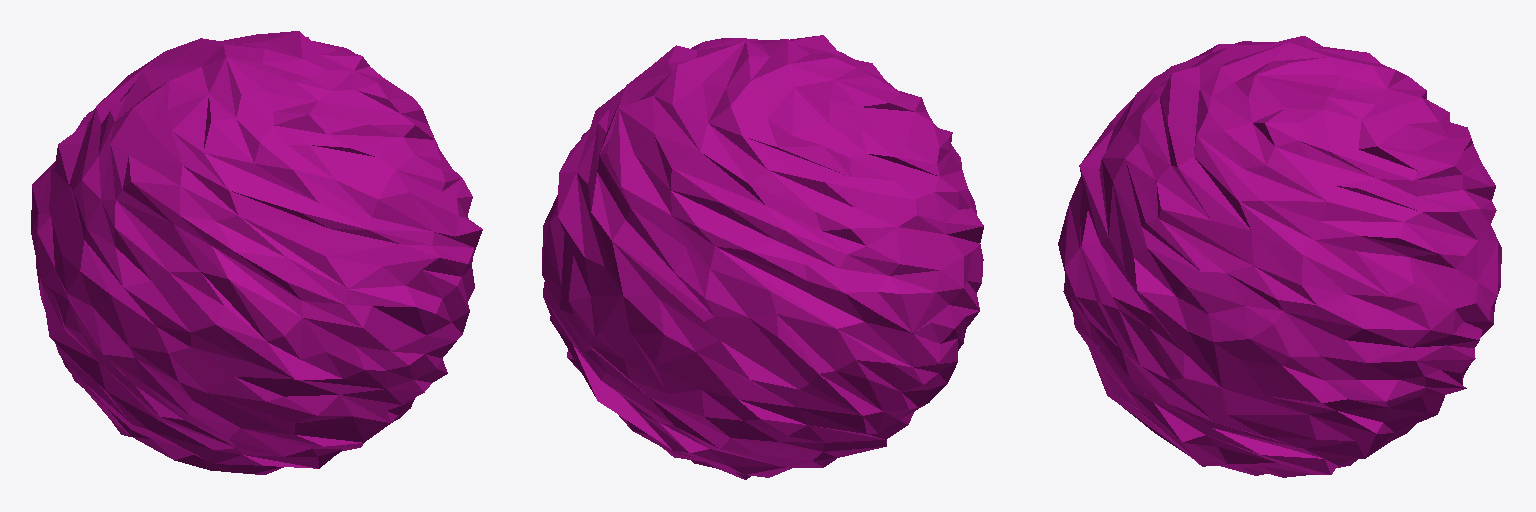
Rendered from neptune_scaled.obj.
The picture shows the model from 3 angles: view 1: azimuth 30°, elevation 25°; view 2: azimuth 150°, elevation 25°; view 3: azimuth 270°, elevation 25°; orthographic projection.
Visible parts, largest first — view 1: Neptune; view 2: Neptune; view 3: Neptune.
Part boxes in pixels (x1,y1,x2,y2): Neptune: (31, 31, 482, 474); Neptune: (542, 35, 983, 479); Neptune: (1058, 36, 1501, 477).
Bounding box in the file's own units: 10.04 × 10.03 × 10.02.